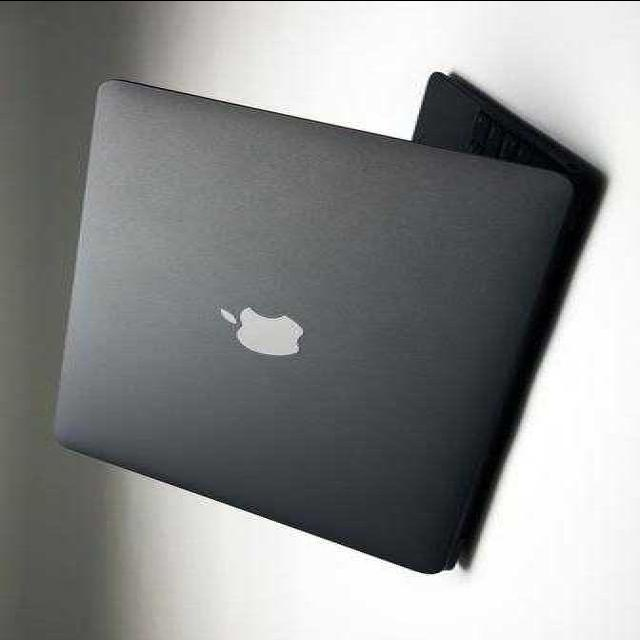laptop: (56, 81, 586, 576)
